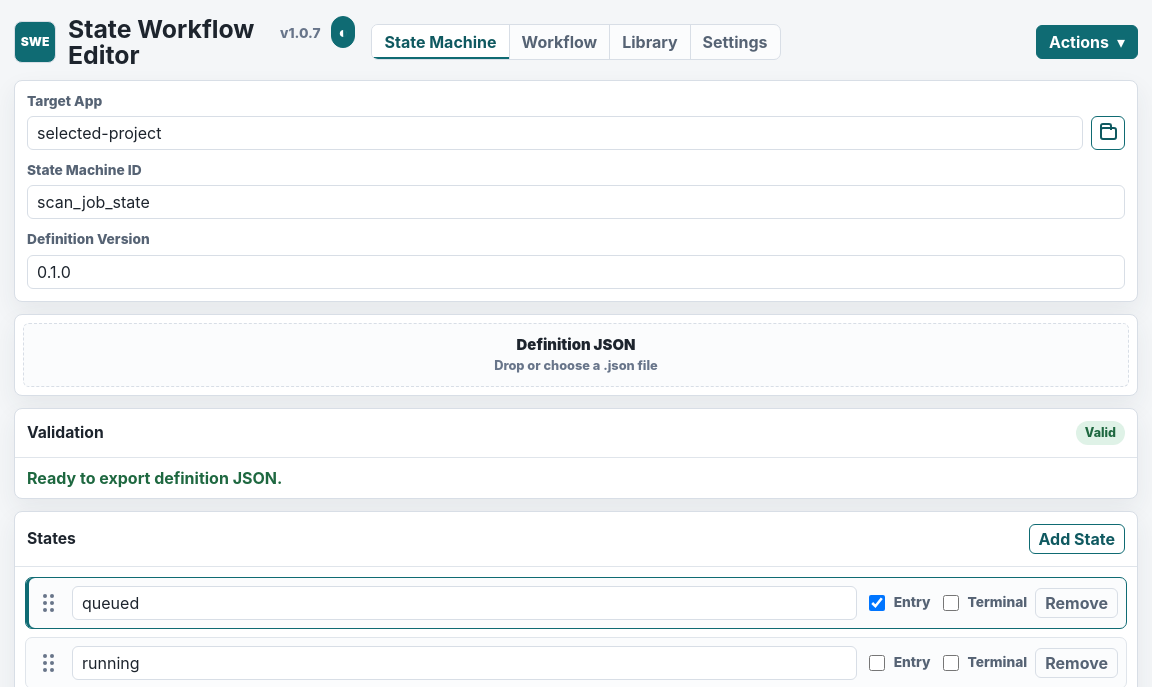
App › uses .app-dashboard.json only when its name is slug-like
Click the button named "Choose app folder": coordinates (1108, 133) [1091,116,1125,150]
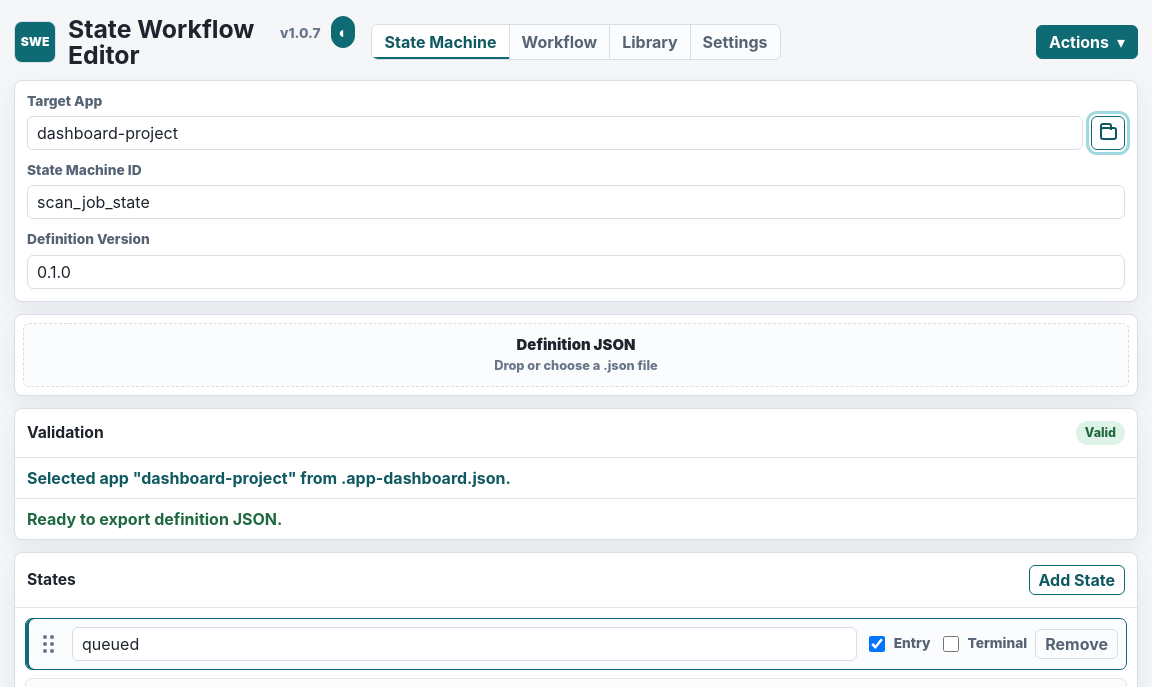
Check: the field labelled "Target App" holds "dashboard-project", box [27,116,1083,150]
Check: the text "Selected app \"dashboard-project\" from .app-dashboard.json." is shown, box [15,458,1137,499]
Click the button named "Choose app folder": coordinates (1108, 133) [1091,116,1125,150]
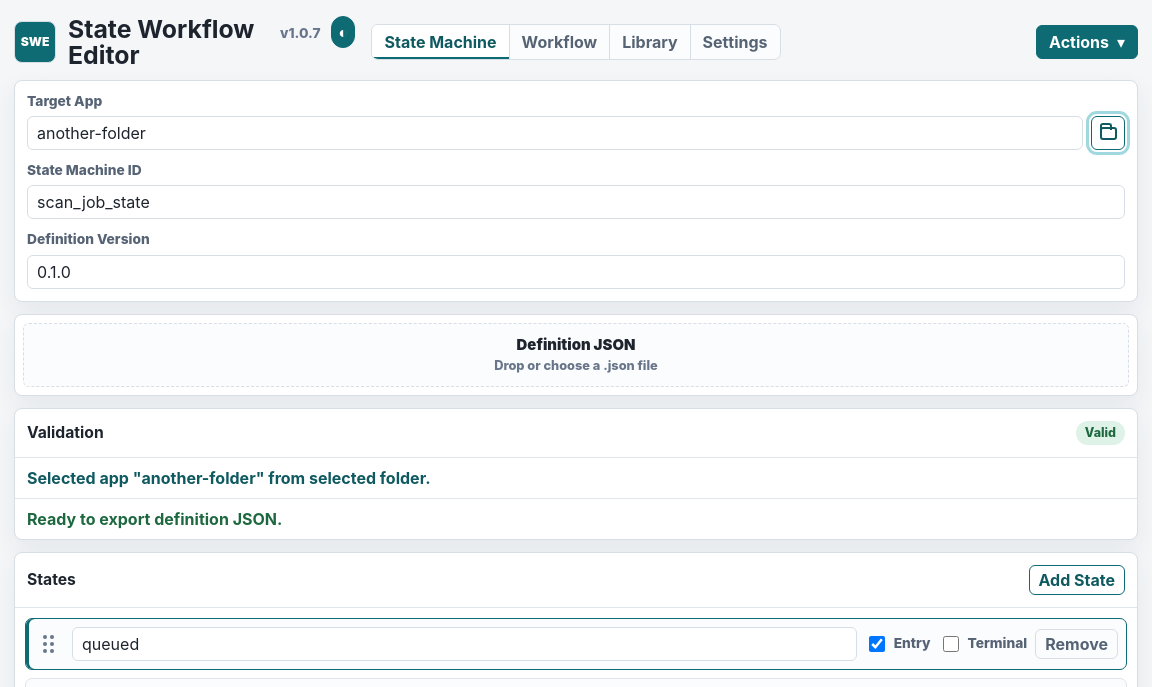
Check: the field labelled "Target App" holds "another-folder", box [27,116,1083,150]
Check: the text "Selected app \"another-folder\" from selected folder." is shown, box [15,458,1137,499]
